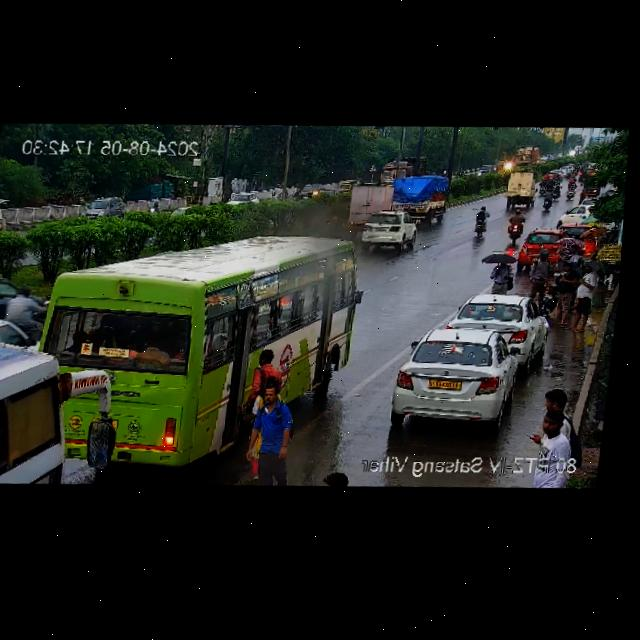bus: (0, 235, 357, 489), (0, 335, 114, 490)
car: (385, 323, 535, 432), (447, 290, 548, 358), (356, 212, 423, 253), (378, 152, 431, 187), (517, 229, 565, 265), (78, 195, 128, 223), (554, 202, 597, 230), (299, 180, 324, 201), (334, 178, 357, 197)
motorcycle: (4, 281, 49, 340), (503, 210, 529, 244), (467, 207, 493, 239), (563, 175, 581, 201), (540, 191, 558, 212)
person: (233, 345, 304, 482), (518, 384, 601, 492), (565, 260, 603, 330), (553, 259, 581, 322), (523, 250, 556, 301), (487, 253, 520, 294), (323, 465, 355, 488), (582, 231, 600, 257)
truck: (386, 175, 450, 216), (497, 167, 543, 209), (511, 144, 540, 168)
